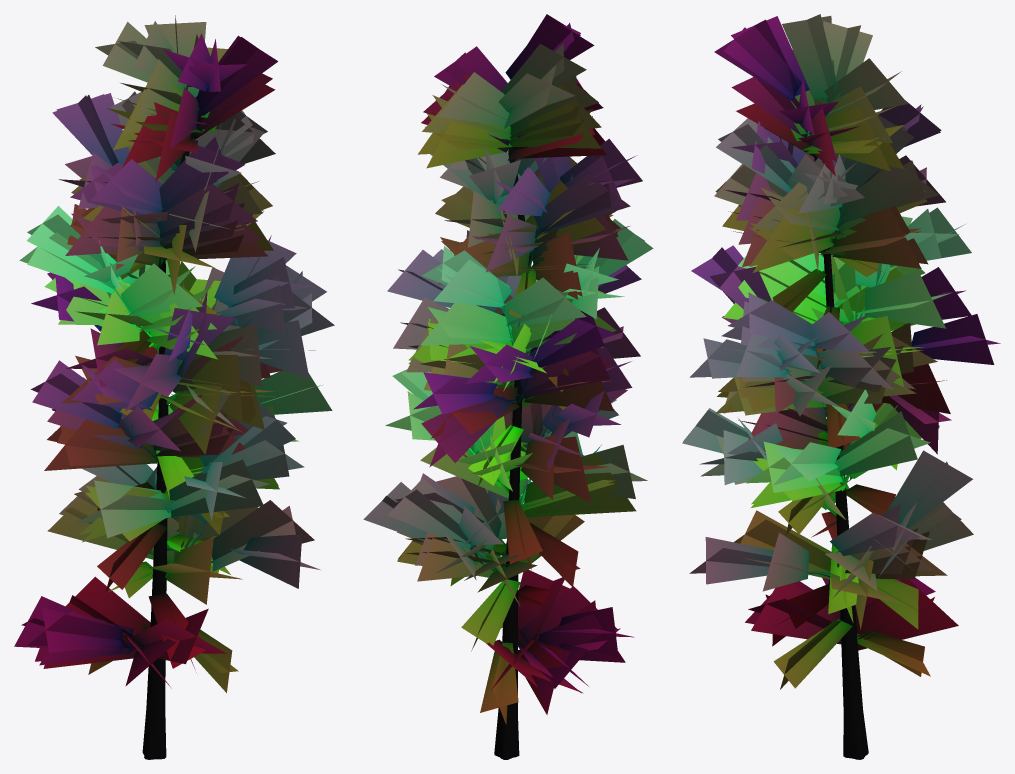
File: M_Realistic21_4.fbx
3 renders of one model, left to right at view 1: azimuth 30°, elevation 25°; view 2: azimuth 150°, elevation 25°; view 3: azimuth 270°, elevation 25°, orthographic. The views are drawn at different scales.
Parts seen in each view (by area): view 1: Tree_4; view 2: Tree_4; view 3: Tree_4.
Part boxes in pixels (x1=…): Tree_4: x1=14, y1=15, x2=334, y2=759; Tree_4: x1=363, y1=14, x2=653, y2=759; Tree_4: x1=682, y1=14, x2=1000, y2=759.
Bounding box in the file's own units: 1035 × 2731 × 1073.
